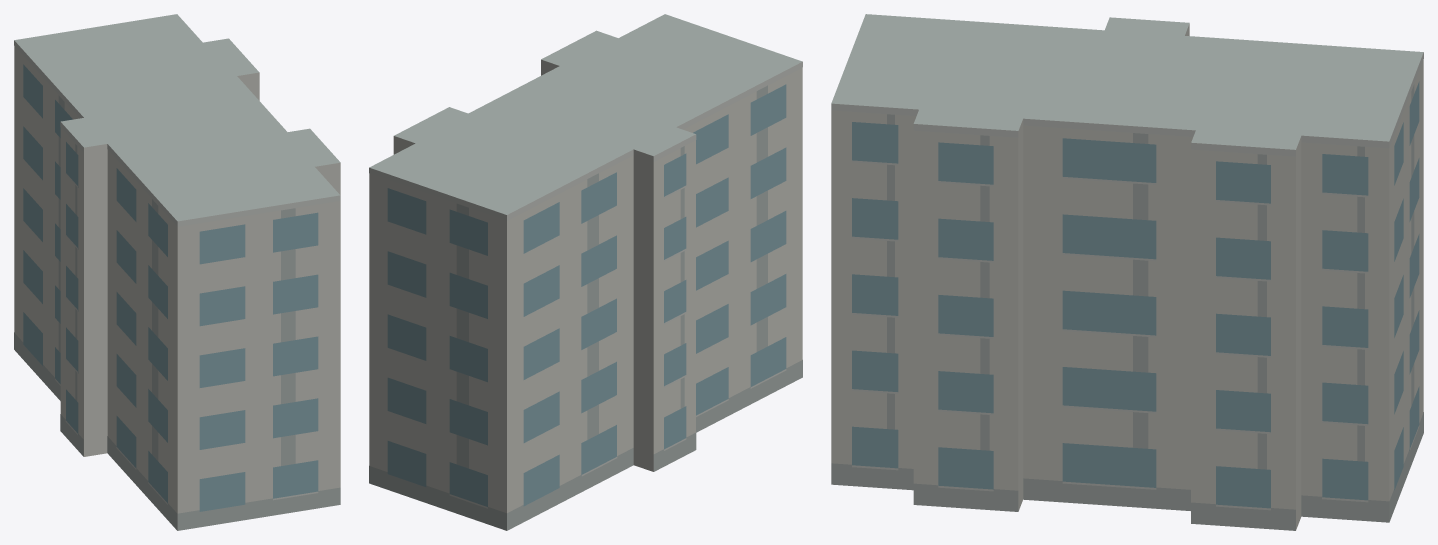
The model's file is survey-upis-32620074.glb.
3 views of the same model, side by side, from view 1: azimuth 30°, elevation 25°; view 2: azimuth 150°, elevation 25°; view 3: azimuth 270°, elevation 25° (orthographic). The views are drawn at different scales.
Parts seen in each view (by area): view 1: survey-upis-32620074.tmp; view 2: survey-upis-32620074.tmp; view 3: survey-upis-32620074.tmp.
Part boxes in pixels (left/top/right/bottom): survey-upis-32620074.tmp: left=14, top=14, right=340, bottom=530; survey-upis-32620074.tmp: left=369, top=14, right=802, bottom=530; survey-upis-32620074.tmp: left=831, top=14, right=1423, bottom=530.
Bounding box in the file's own units: 10.33 × 13.5 × 19.04.
